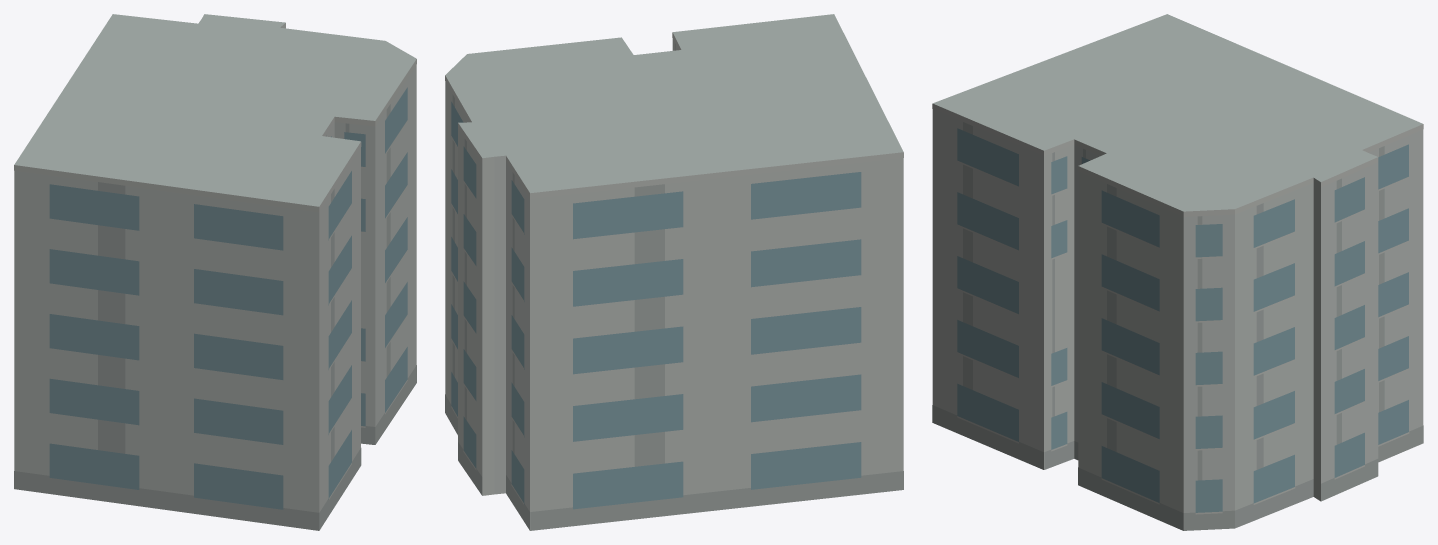
File: survey-upis-32950974.glb
The picture shows the model from 3 angles, left to right: view 1: azimuth 30°, elevation 25°; view 2: azimuth 150°, elevation 25°; view 3: azimuth 270°, elevation 25°; orthographic projection. The views are drawn at different scales.
Parts seen in each view (by area): view 1: survey-upis-32950974.tmp; view 2: survey-upis-32950974.tmp; view 3: survey-upis-32950974.tmp.
Boxes of the visible parts, x1,y1,x2,y2 form: survey-upis-32950974.tmp: [14, 14, 416, 530]; survey-upis-32950974.tmp: [445, 14, 903, 530]; survey-upis-32950974.tmp: [932, 14, 1423, 530].
Size of the model in its own units: 18.98 by 14.3 by 19.93.
